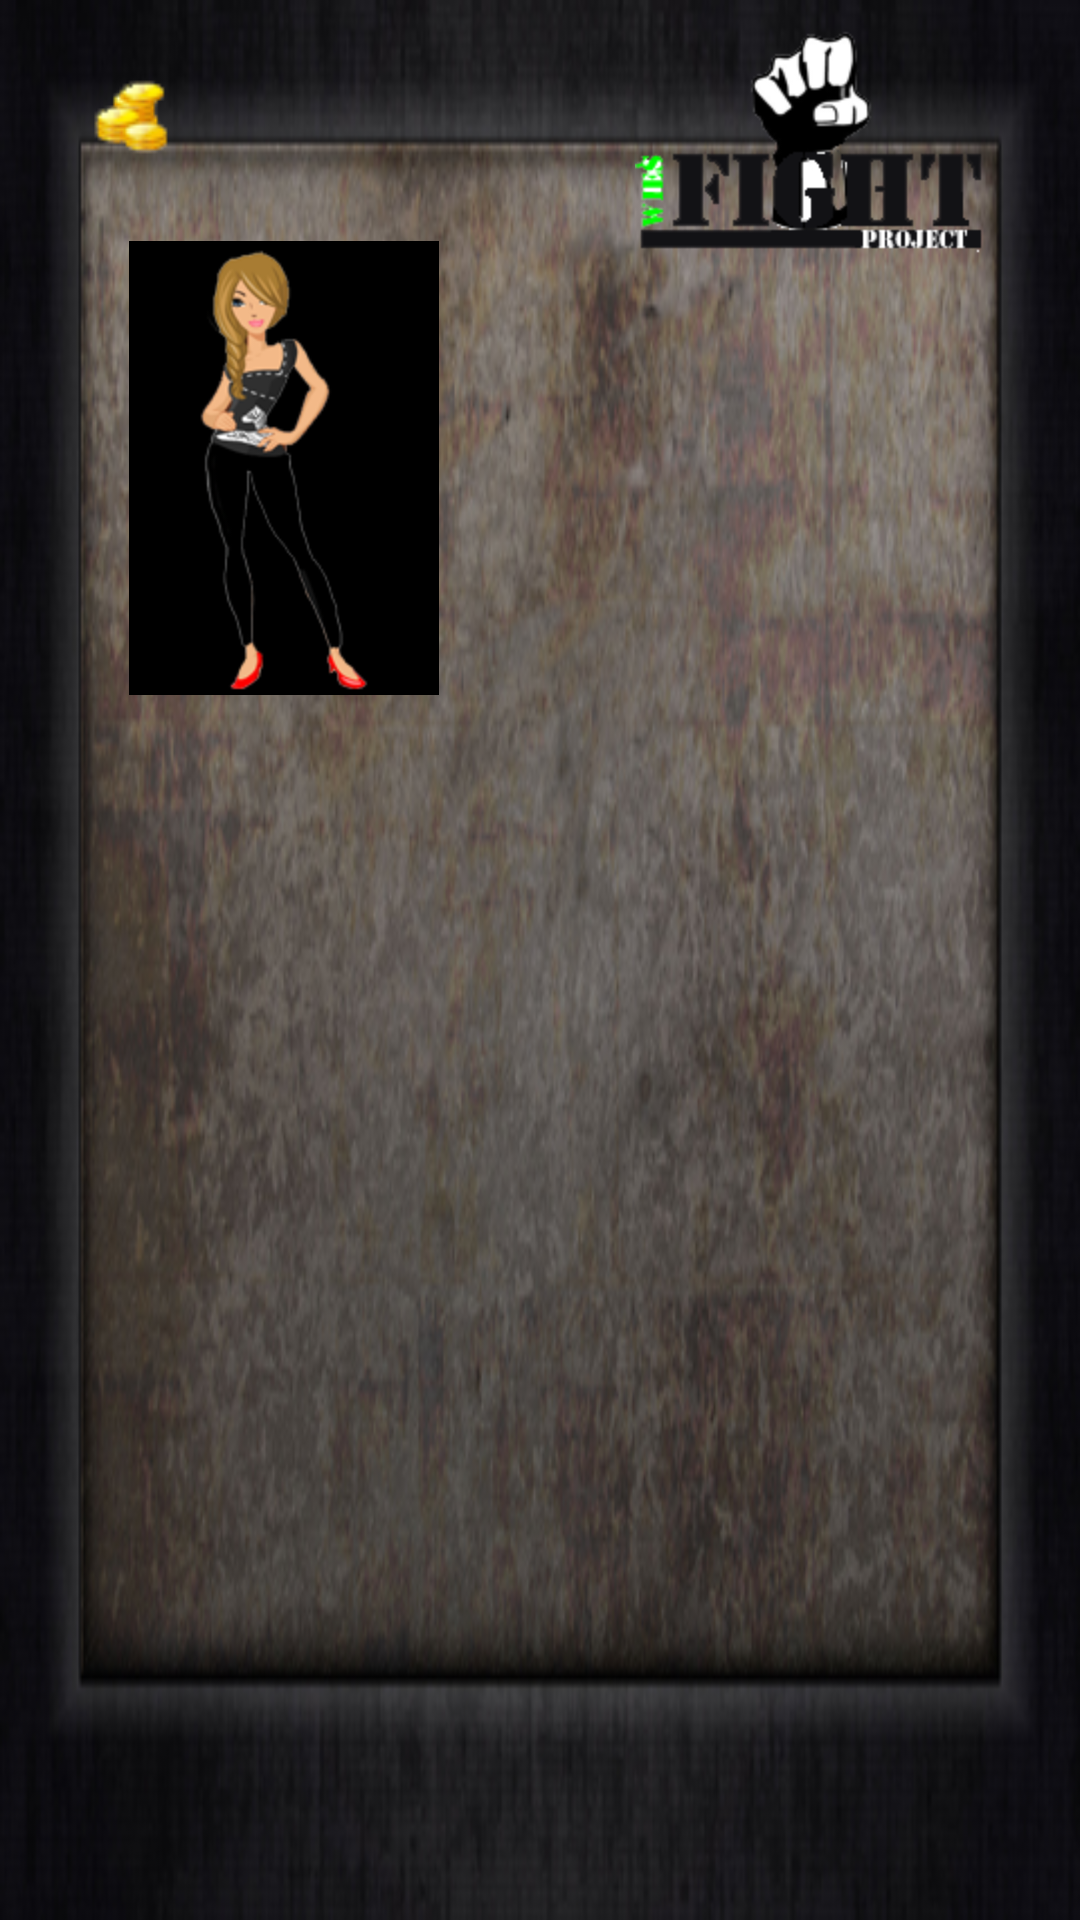

Where to tap for icons on this 1080px x 1920px app screen, as (x,y):
kasa: (134,117)
